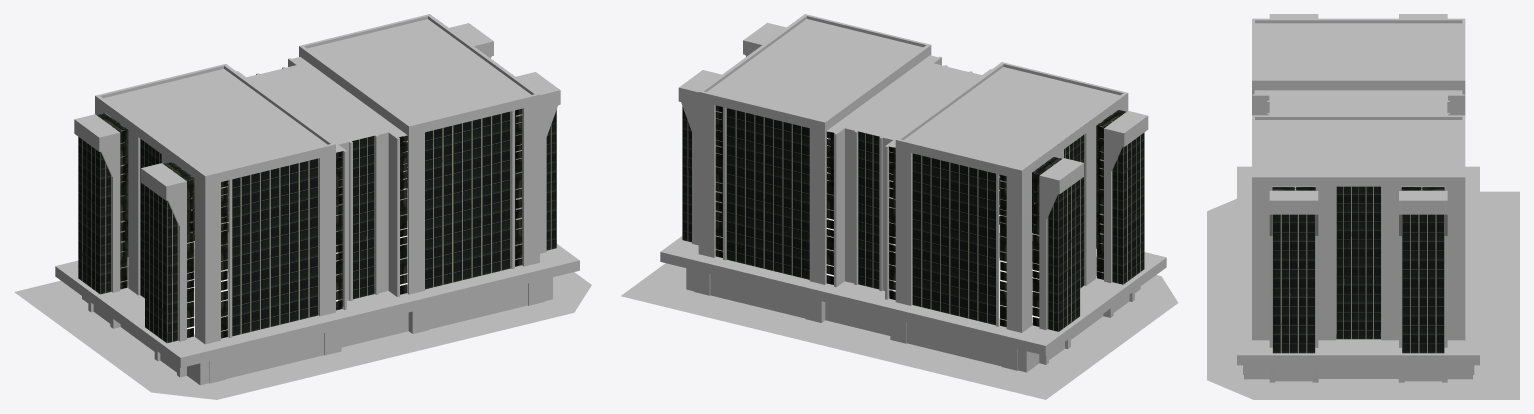
The picture shows the model from 3 angles, left to right: view 1: azimuth 30°, elevation 25°; view 2: azimuth 150°, elevation 25°; view 3: azimuth 270°, elevation 25°; orthographic projection. The views are drawn at different scales.
Parts seen in each view (by area): view 1: DC-10; view 2: DC-10; view 3: DC-10.
Part boxes in pixels (x1=…): DC-10: x1=14, y1=14, x2=591, y2=399; DC-10: x1=621, y1=14, x2=1178, y2=399; DC-10: x1=1207, y1=14, x2=1519, y2=399.
Size of what is drawn, in the model's own units: 72 by 31.89 by 45.66.
